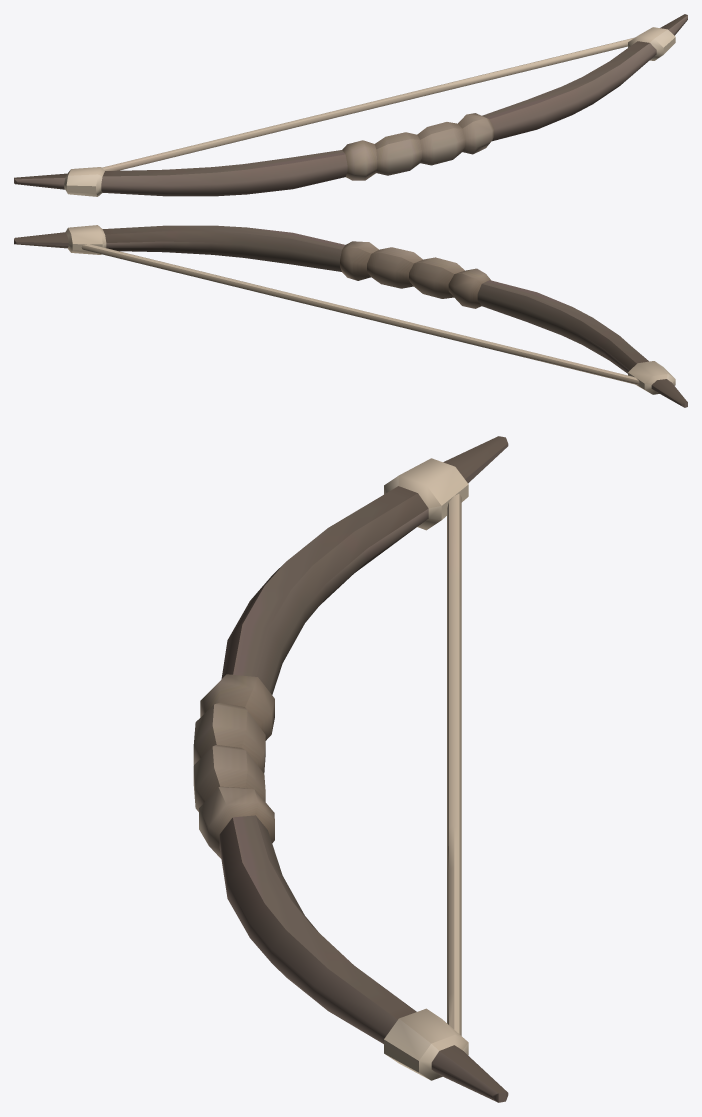
Rendered from kk_bow_A_withString.glb.
The picture shows the model from 3 angles, top to bottom: view 1: azimuth 30°, elevation 25°; view 2: azimuth 150°, elevation 25°; view 3: azimuth 270°, elevation 25°; orthographic projection. The views are drawn at different scales.
Visible parts, largest first — view 1: bow_A_withString; view 2: bow_A_withString; view 3: bow_A_withString.
Boxes of the visible parts, left/top/right/bottom form: bow_A_withString: left=14, top=14, right=687, bottom=196; bow_A_withString: left=14, top=225, right=687, bottom=407; bow_A_withString: left=193, top=436, right=508, bottom=1102.
Bounding box in the file's own units: 1.96 × 0.0915 × 0.3957.
1 material, 1 textured.
